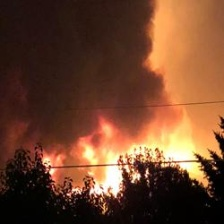fire: (35, 119, 222, 197)
smoke: (2, 5, 189, 115)
